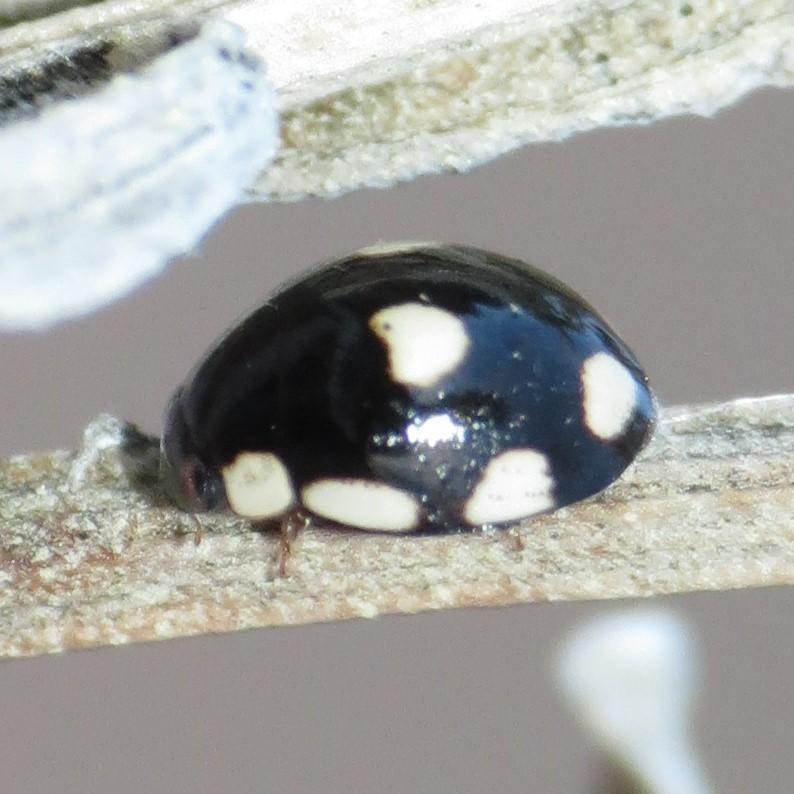ladybug: (155, 239, 661, 585)
